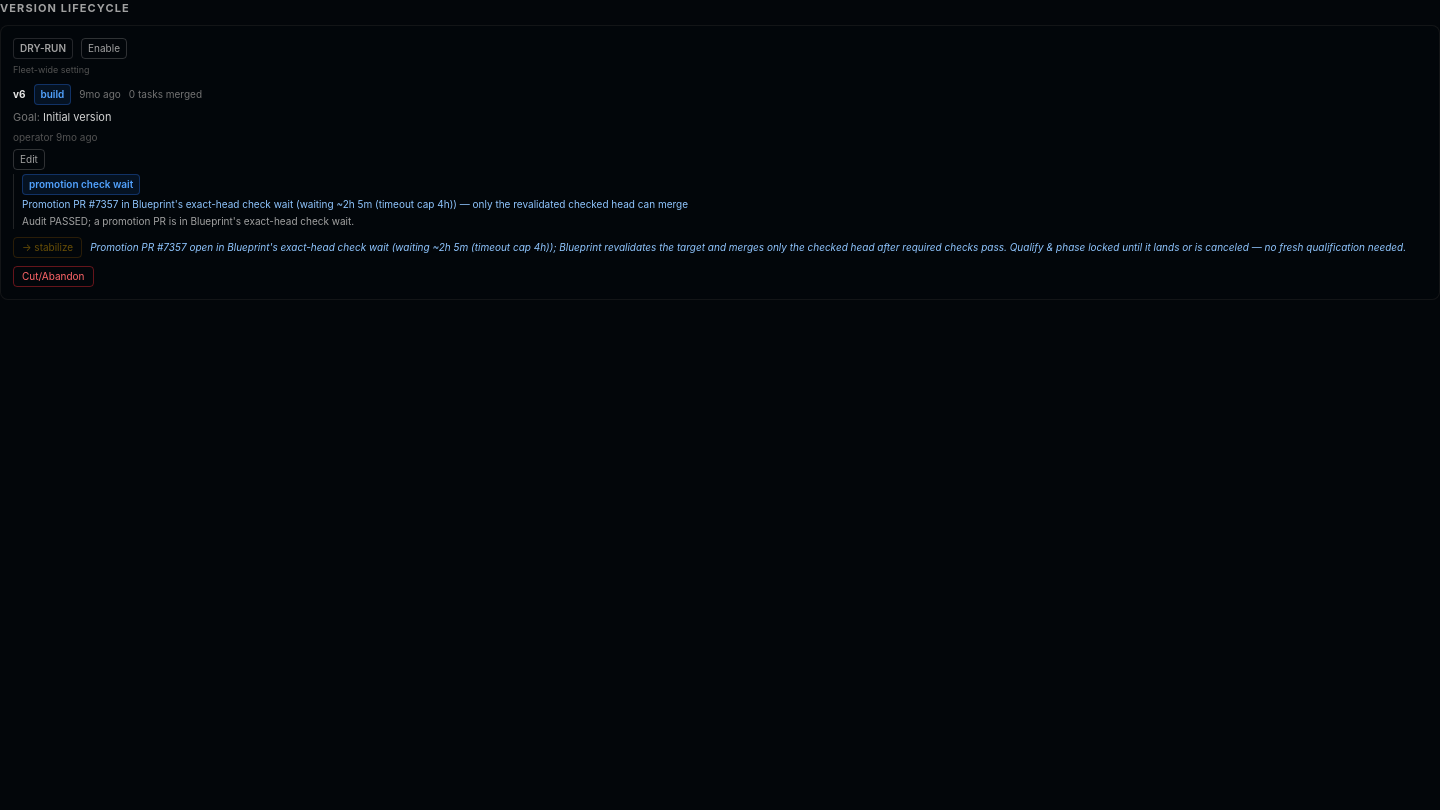
Test: VersionLifecyclePanel › cut consequences disclosure › surfaces exact-head promotion check-wait context before confirming a cut
Click the button "Cut/Abandon": [53, 276] box [13, 266, 94, 286]
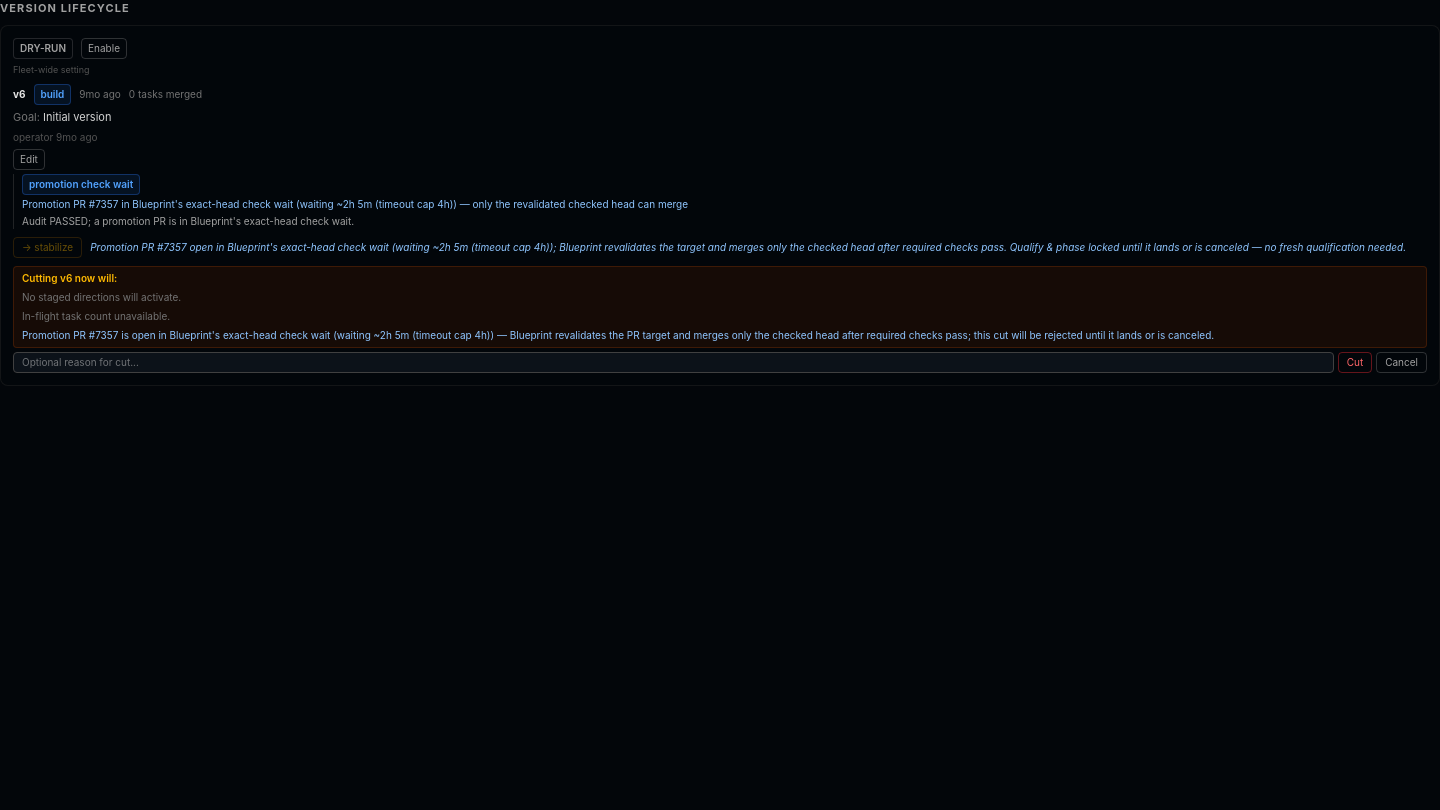
Expected: the text with test id "promotion-check-wait-freshness" shows "Promotion PR #7357 in Blueprint's exact-head check wait (waiting ~2h 5m (timeout cap 4h)) — only the revalidated checked head can merge", [22, 198, 688, 210]
Expected: the element with test id "cut-consequences" shows "Promotion PR #7357 is open in Blueprint's exact-head check wait (waiting ~2h 5m (timeout cap 4h))", [13, 266, 1427, 348]
Click the button "Cut": [1355, 362] box [1338, 352, 1372, 372]
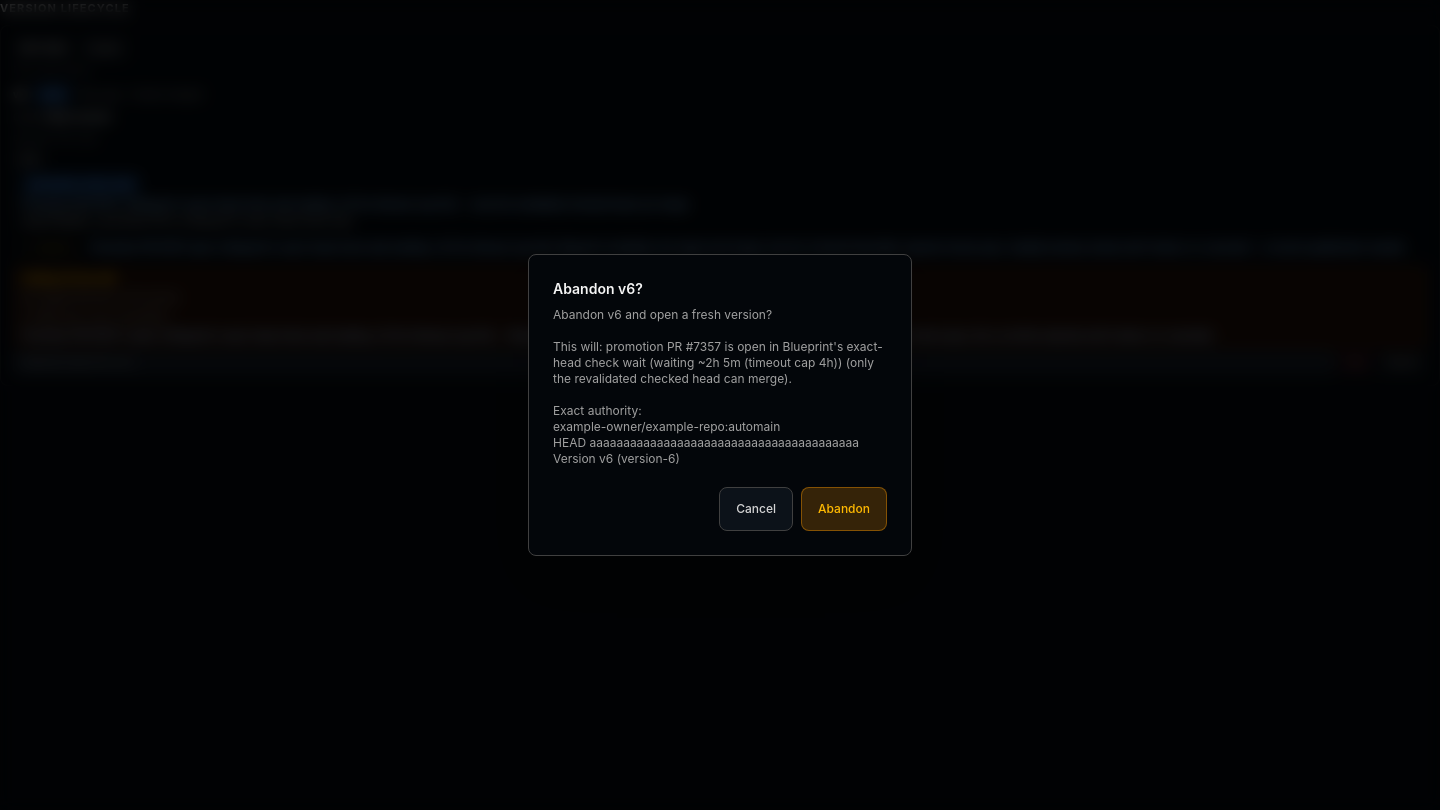
Expected: the button with test id "confirm-dialog-confirm" is shown
Expected: the text "promotion PR #7357 is open in Blueprint's exact-head check wait (waiting ~2h 5m (timeout cap 4h))" is shown, [553, 307, 883, 466]
Click the button with test id "confirm-dialog-confirm": [844, 509] box [801, 487, 887, 531]
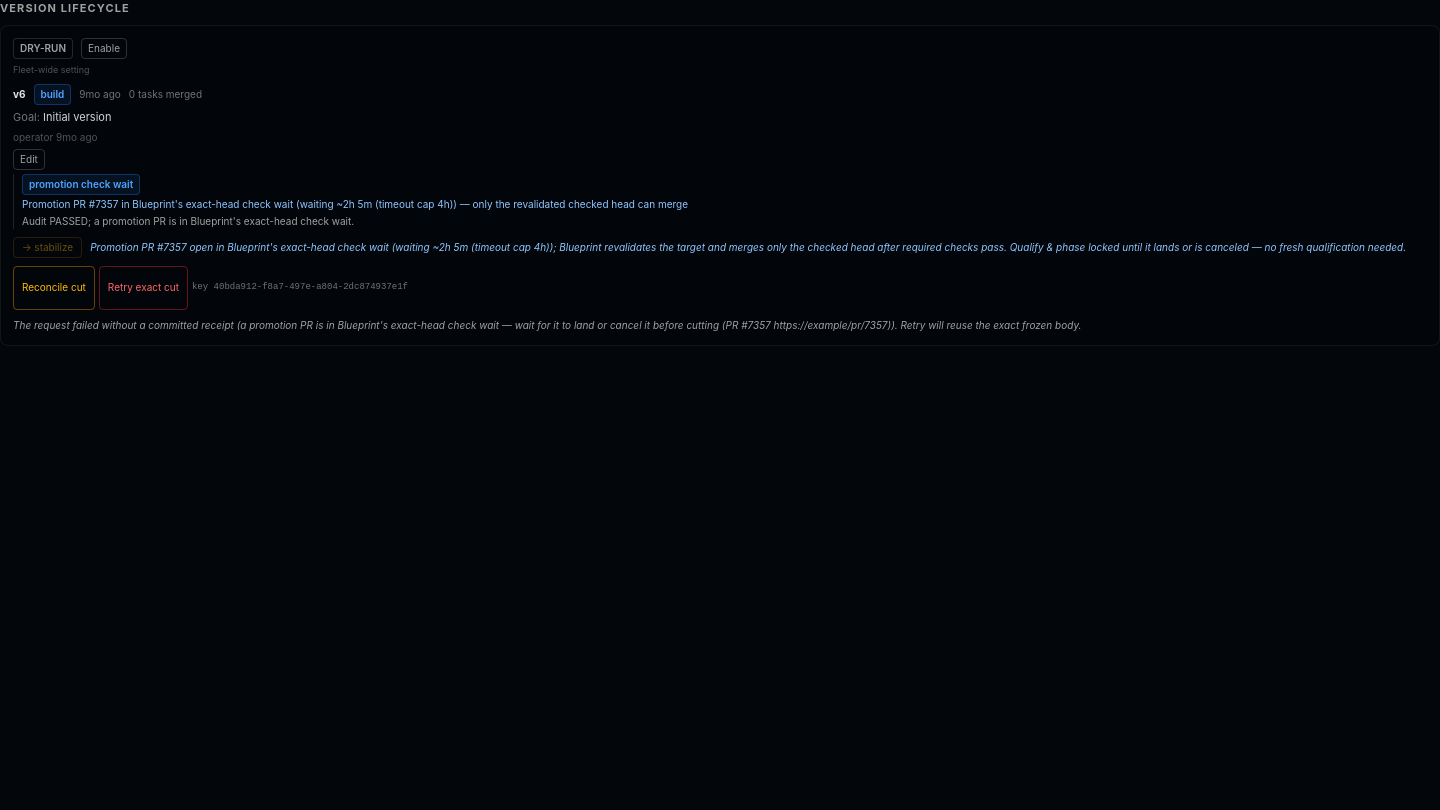
Expected: the text "wait for it to land or cancel it before cutting" is shown, [13, 318, 1082, 330]
